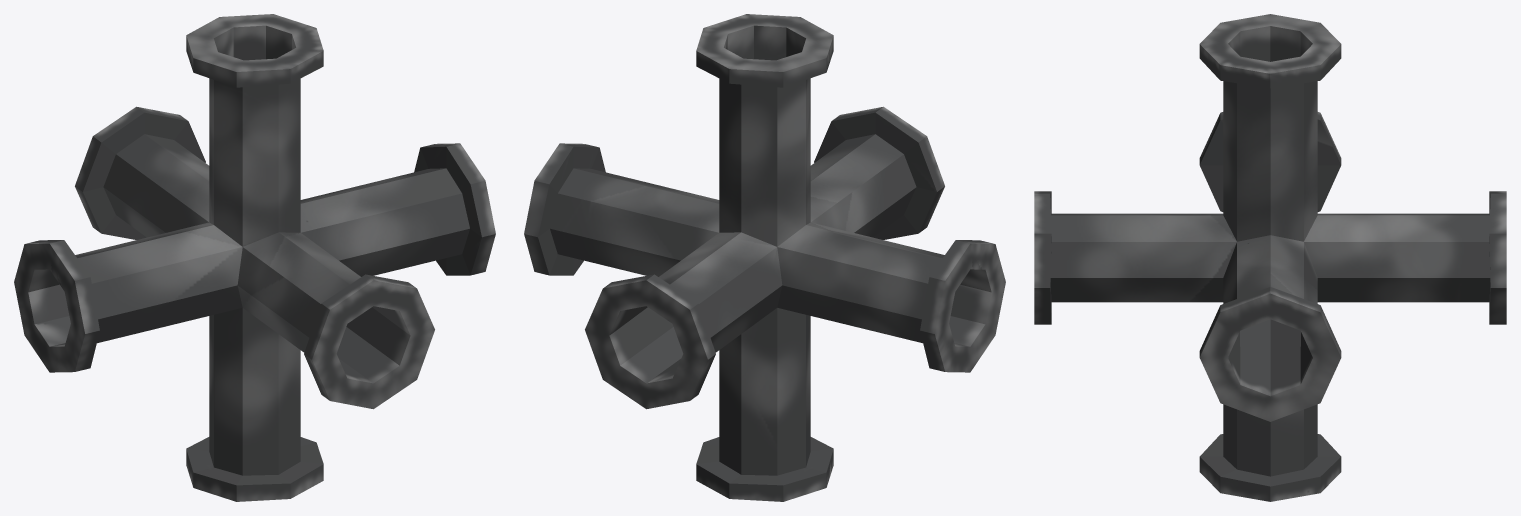
3 renders of one model, left to right at view 1: azimuth 30°, elevation 25°; view 2: azimuth 150°, elevation 25°; view 3: azimuth 270°, elevation 25°, orthographic.
Parts seen in each view (by area): view 1: Pipe6; view 2: Pipe6; view 3: Pipe6.
Boxes of the visible parts, box(x1,y1,x2,y2) form: Pipe6: box(14, 14, 495, 501); Pipe6: box(524, 14, 1005, 501); Pipe6: box(1034, 14, 1506, 501).
Size of the model in its own units: 10 by 10 by 10.
Materials: 1 (1 with a texture image).
